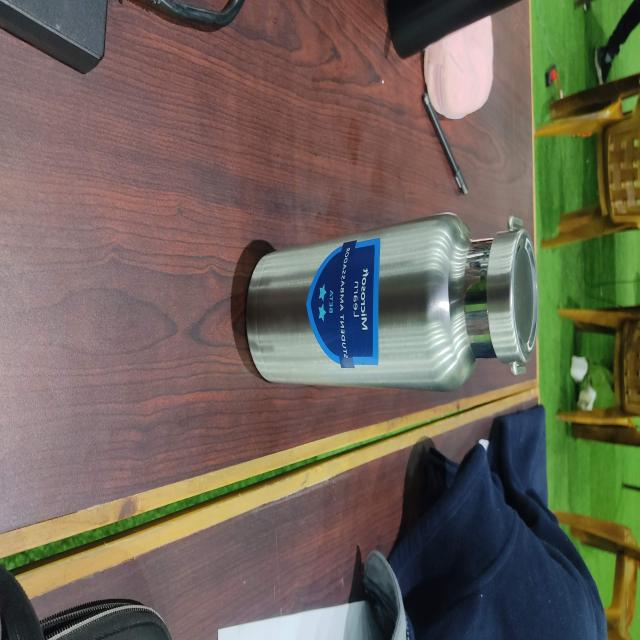Pringles: (245, 210, 539, 392)
